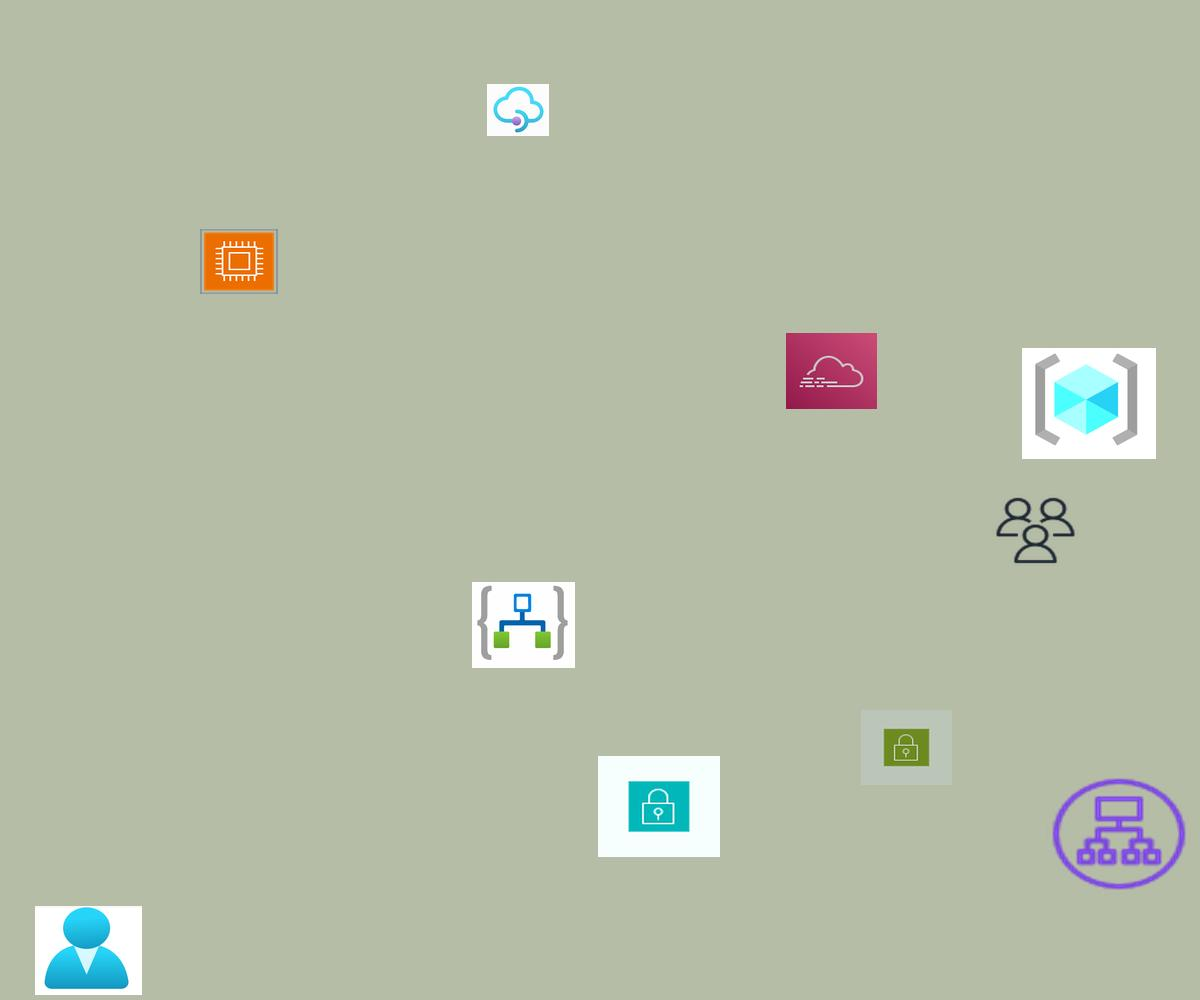AWS-Category_Compute: (200, 229, 278, 294)
AWS-CloudTrail: (786, 333, 877, 409)
AWS-Private-subnet: (598, 756, 720, 857)
AWS-Public-subnet: (861, 710, 952, 785)
AWS-Res_Elastic-Load-Balancing_Application-Load-Balancer: (1047, 774, 1191, 894)
AWS-Res_Users: (993, 495, 1078, 566)
Azure_api_gateway: (487, 84, 549, 136)
Azure_integration-204-Logic-Apps: (472, 582, 575, 668)
Azure_resource_group: (1022, 348, 1156, 459)
Azure_users: (35, 906, 142, 995)
